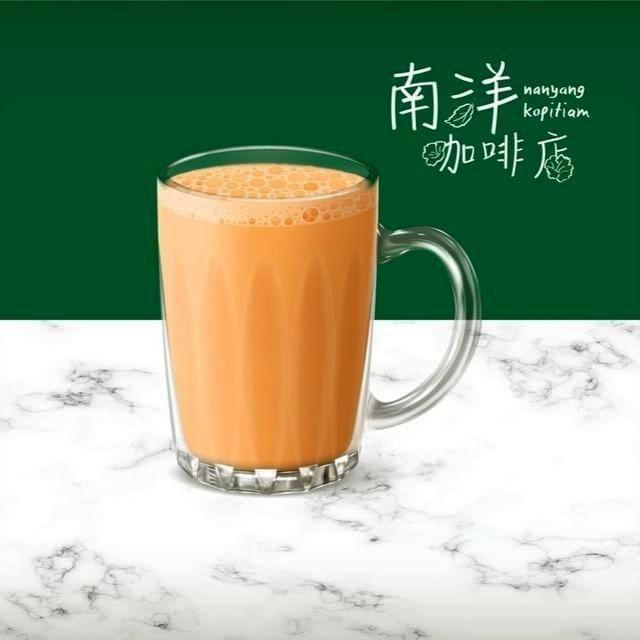glass-mug: (147, 140, 488, 500)
